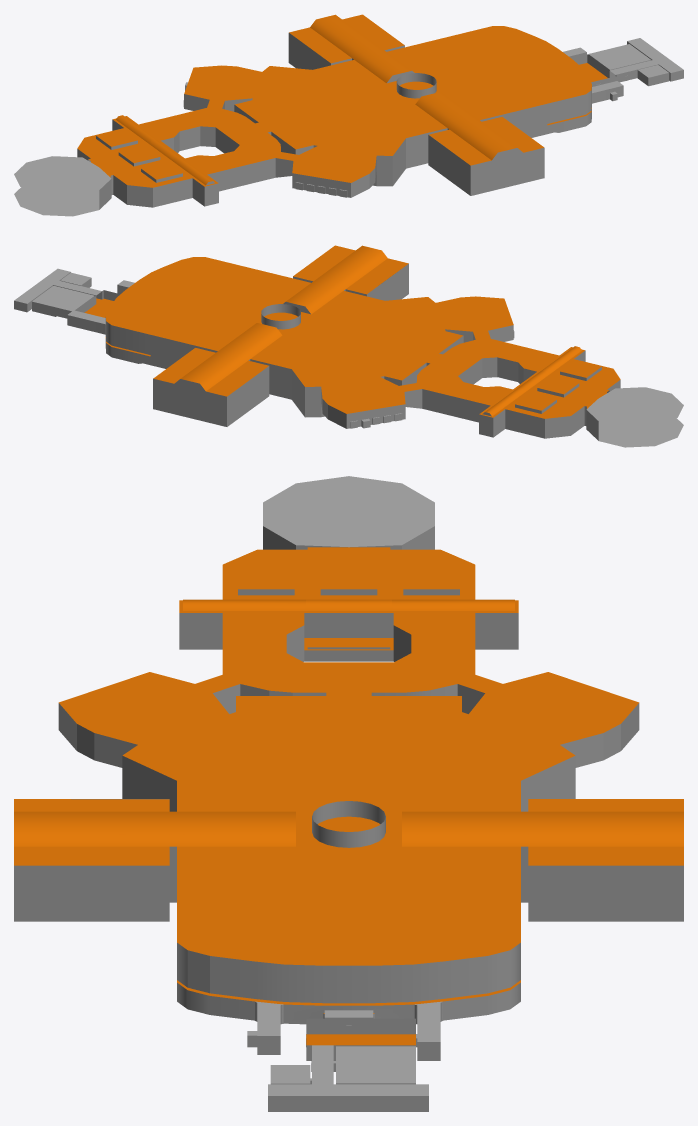
File: WB_nivel1_Bugtants20.fbx
3 views of the same model, one above another, from view 1: azimuth 30°, elevation 25°; view 2: azimuth 150°, elevation 25°; view 3: azimuth 270°, elevation 25° (orthographic). The views are drawn at different scales.
Parts seen in each view (by area): view 1: pDisc2; view 2: pDisc2; view 3: pDisc2.
Part boxes in pixels (x1,y1,x2,y2): pDisc2: [14, 14, 683, 216]; pDisc2: [14, 245, 683, 447]; pDisc2: [14, 476, 683, 1111].
Size of the model in its own units: 314 by 19.5 by 154.
